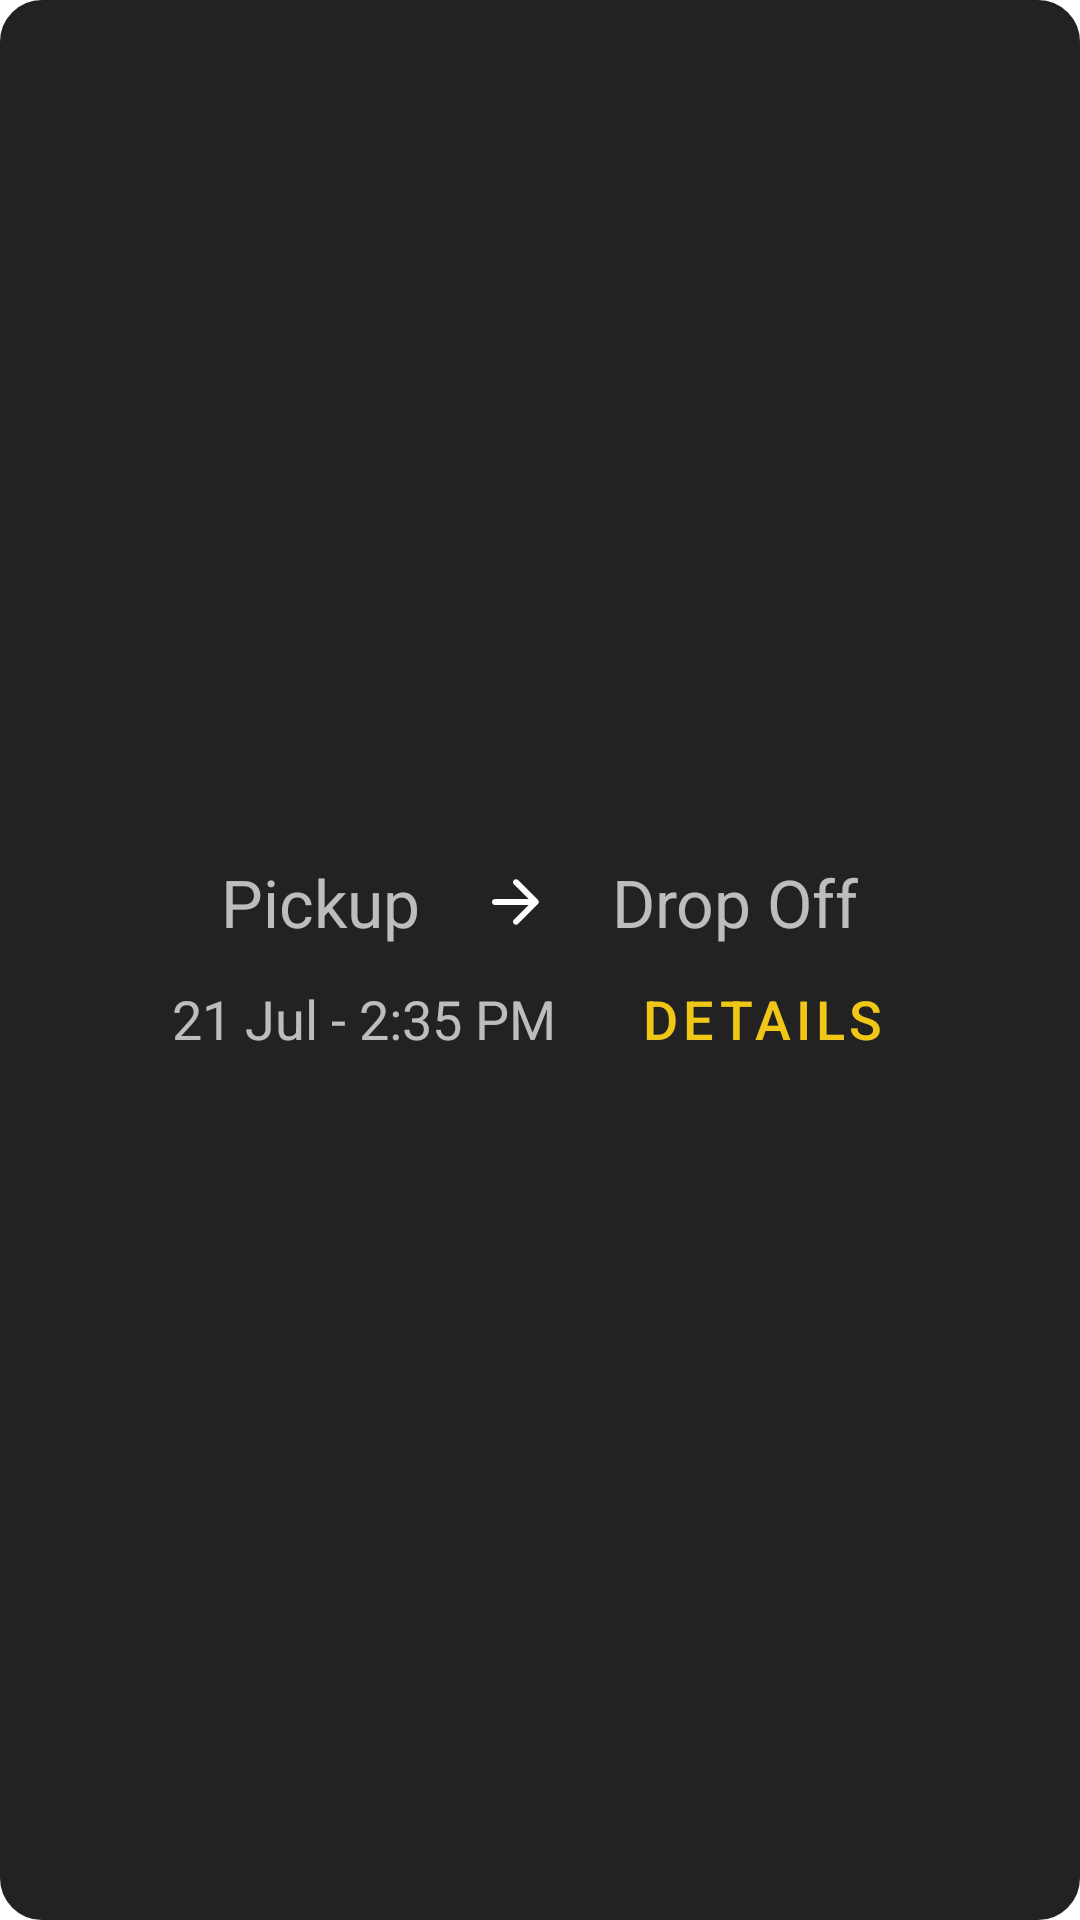

Where to tap for icons on this 1080x1920 app screen, as (x,y):
arrow: (515,902)
